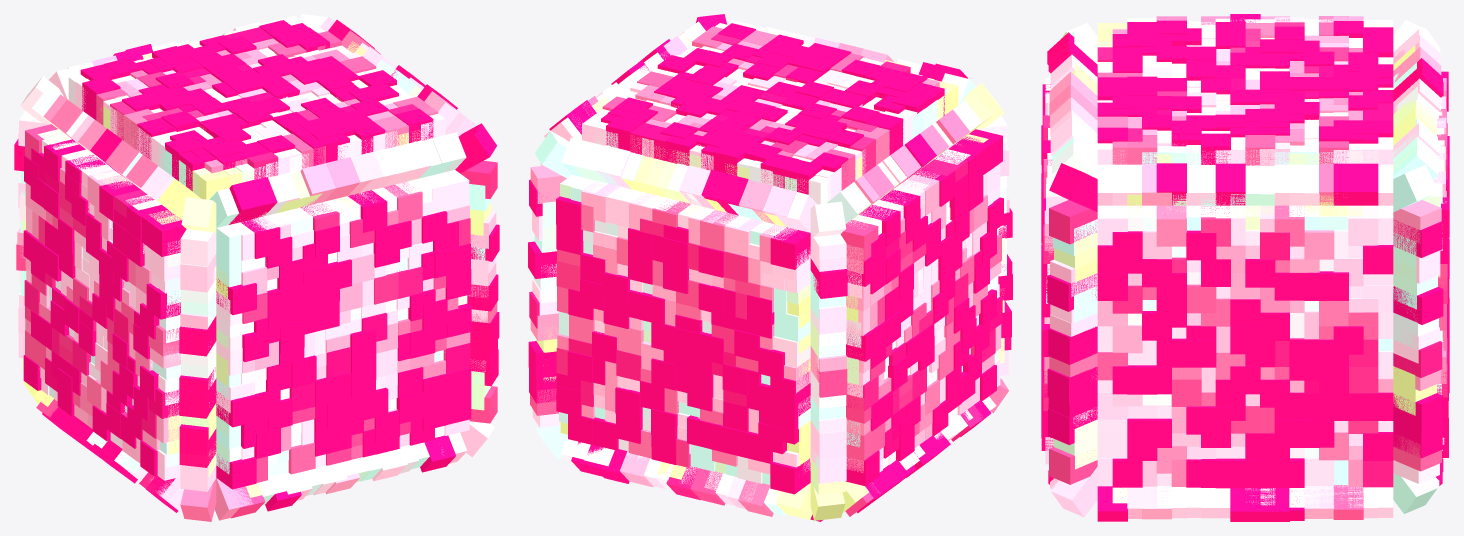
3 renders of one model, left to right at view 1: azimuth 30°, elevation 25°; view 2: azimuth 150°, elevation 25°; view 3: azimuth 270°, elevation 25°, orthographic. The views are drawn at different scales.
Visible parts, largest first — view 1: 物件_2383, 物件_2362, 物件_421, 物件_2382, 物件_2402, 物件_1062, 物件_2390, 物件_1960, 物件_1861, 物件_502, 物件_1221, 物件_1961 (+106 smaller); view 2: 物件_1883, 物件_1962, 物件_1984, 物件_1901, 物件_1965, 物件_1, 物件_1978, 物件_682, 物件_1403, 物件_2, 物件_1982, 物件_763 (+100 smaller); view 3: 物件_422, 物件_421, 物件_431, 物件_434, 物件_8, 物件_2, 物件_18, 物件_1, 物件_441, 物件_232, 物件_16, 物件_3 (+168 smaller).
Boxes of the visible parts, <box> form: 物件_2383: <box>180,229,216,266</box>; 物件_2362: <box>148,215,186,256</box>; 物件_421: <box>455,123,496,173</box>; 物件_2382: <box>181,197,216,233</box>; 物件_2402: <box>180,478,216,521</box>; 物件_1062: <box>348,190,387,232</box>; 物件_2390: <box>179,316,216,356</box>; 物件_1960: <box>216,454,256,489</box>; 物件_1861: <box>229,179,265,224</box>; 物件_502: <box>431,170,469,210</box>; 物件_1221: <box>324,157,360,201</box>; 物件_1961: <box>214,478,252,520</box>; 物件_1883: <box>770,227,810,269</box>; 物件_1962: <box>810,201,846,236</box>; 物件_1984: <box>840,220,878,261</box>; 物件_1901: <box>770,458,810,494</box>; 物件_1965: <box>810,258,847,298</box>; 物件_1: <box>535,131,571,178</box>; 物件_1978: <box>810,420,846,459</box>; 物件_682: <box>596,145,631,189</box>; 物件_1403: <box>700,210,738,251</box>; 物件_2: <box>530,165,566,203</box>; 物件_1982: <box>810,483,845,520</box>; 物件_763: <box>606,187,643,227</box>; 物件_422: <box>1049,200,1097,244</box>; 物件_421: <box>1049,163,1097,212</box>; 物件_431: <box>1048,326,1097,364</box>; 物件_434: <box>1047,366,1097,405</box>; 物件_8: <box>1393,286,1443,324</box>; 物件_2: <box>1393,200,1441,243</box>; 物件_18: <box>1393,420,1442,458</box>; 物件_1: <box>1393,165,1437,212</box>; 物件_441: <box>1051,467,1097,517</box>; 物件_232: <box>1215,163,1245,205</box>; 物件_16: <box>1393,393,1442,431</box>; 物件_3: <box>1393,220,1442,257</box>.
Bounding box in the file's own units: 148 × 148 × 148.
